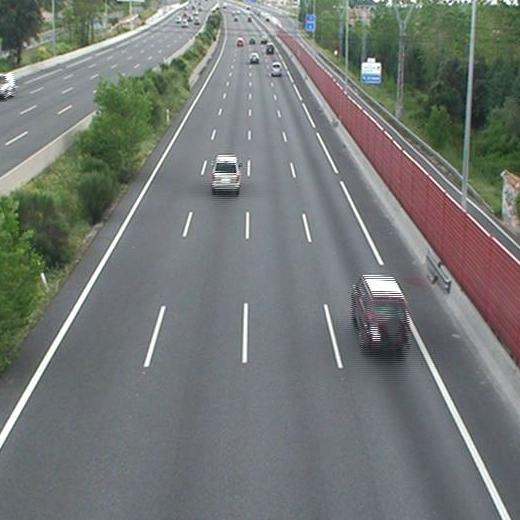car: (351, 277, 408, 348), (211, 156, 241, 190), (271, 62, 282, 76), (250, 53, 260, 63), (237, 37, 244, 48), (266, 44, 274, 53)
